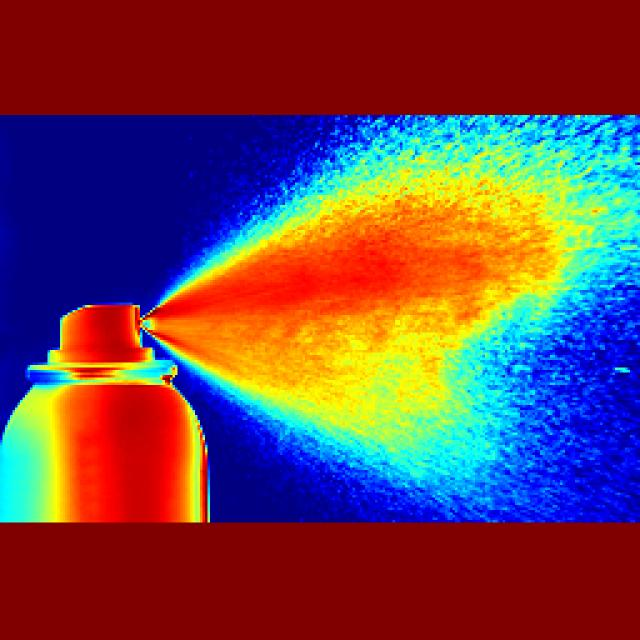Aerosol Cans: (11, 293, 225, 534)
